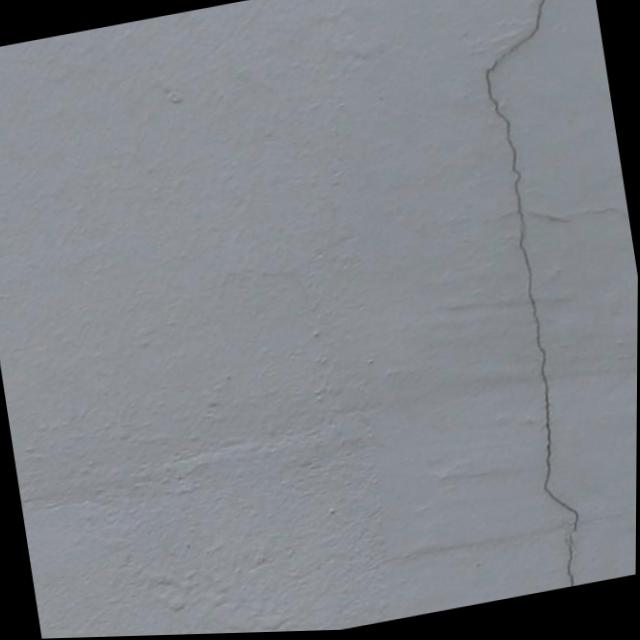Crack: (441, 0, 640, 598)
